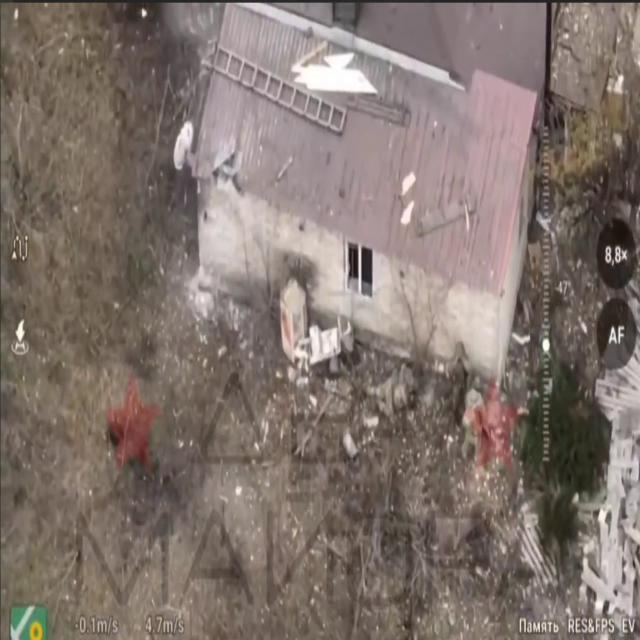fortification: (172, 0, 600, 366)
infantry: (459, 370, 495, 478)
